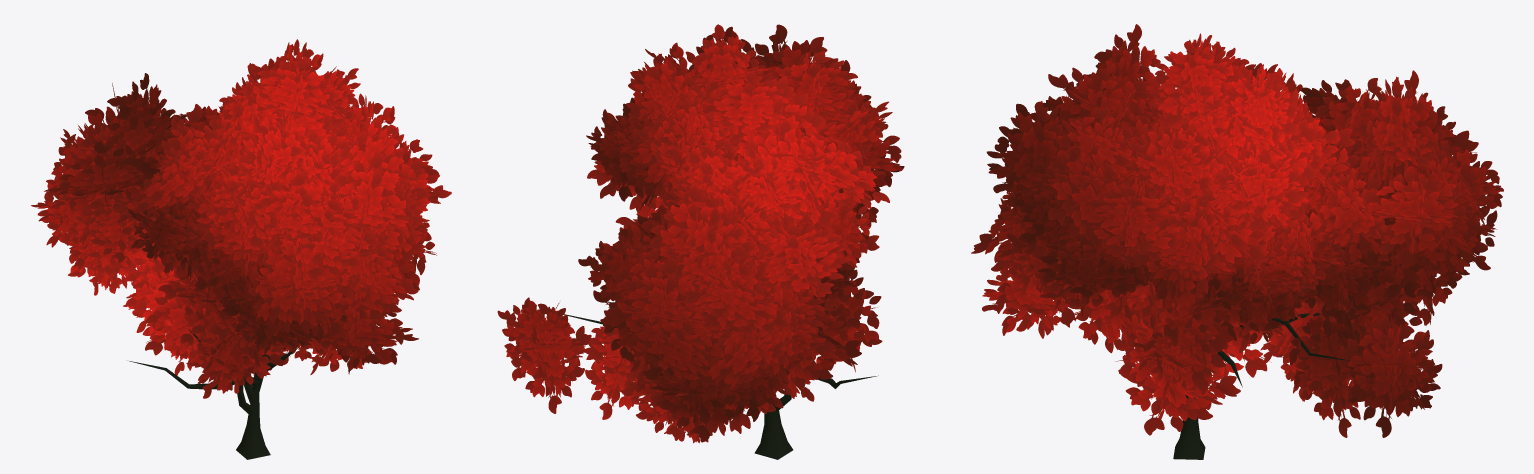
File: tree_large.glb
3 views of the same model, side by side, from view 1: azimuth 30°, elevation 25°; view 2: azimuth 150°, elevation 25°; view 3: azimuth 270°, elevation 25° (orthographic). The views are drawn at different scales.
Visible parts, largest first — view 1: tree_large; view 2: tree_large; view 3: tree_large.
Boxes of the visible parts, <box> form: tree_large: <box>31,39,451,459</box>; tree_large: <box>497,24,904,459</box>; tree_large: <box>971,24,1503,459</box>.
Size of the model in its own units: 14.37 by 16.75 by 19.02.
Materials: 1 (1 with a texture image).
